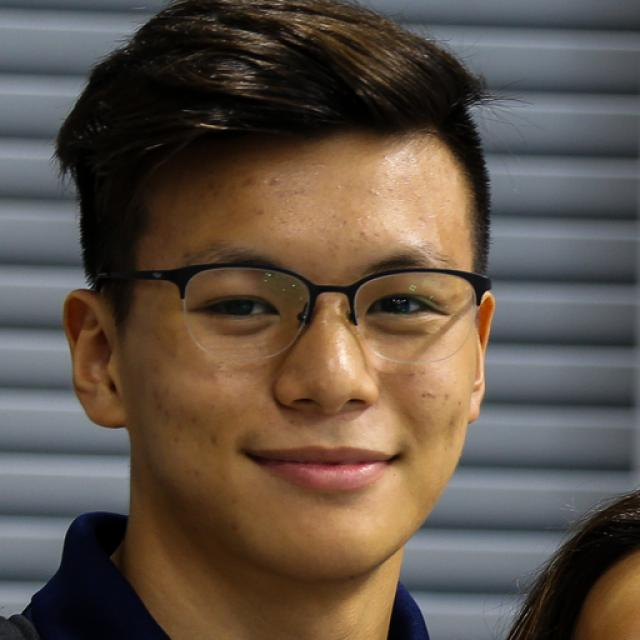Acne: (362, 184, 385, 202), (264, 169, 283, 187), (350, 225, 371, 241), (326, 179, 345, 195), (206, 368, 224, 384), (421, 384, 437, 402)
